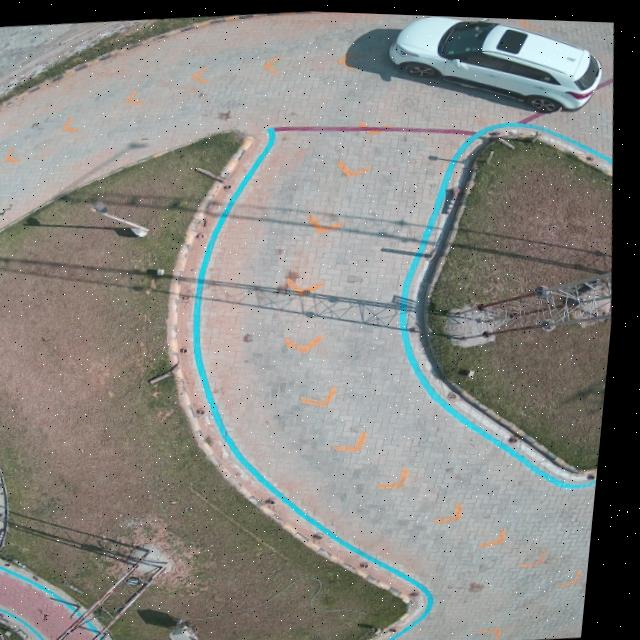car: (389, 13, 600, 109)
